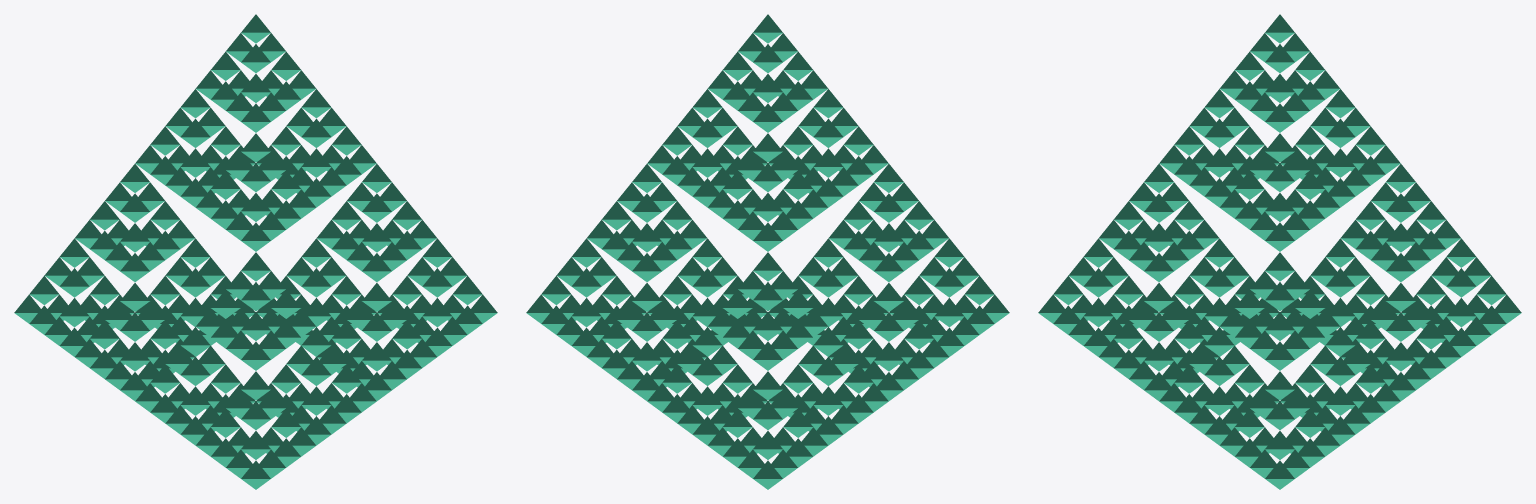
File: 3d-fractal-sierpinski-pyramid-20260125.glb
3 renders of one model, left to right at view 1: azimuth 30°, elevation 25°; view 2: azimuth 150°, elevation 25°; view 3: azimuth 270°, elevation 25°, orthographic.
Parts seen in each view (by area): view 1: Sierpinski; view 2: Sierpinski; view 3: Sierpinski.
Boxes of the visible parts, bbox=[...] form: Sierpinski: bbox=[14, 14, 497, 489]; Sierpinski: bbox=[526, 14, 1009, 489]; Sierpinski: bbox=[1038, 14, 1521, 489].
Size of the model in its own units: 2.83 by 2.67 by 3.27.
